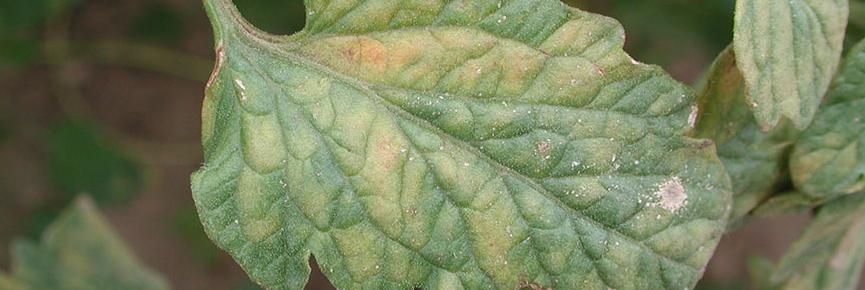Tomato mold leaf: (188, 0, 747, 290), (723, 0, 843, 157)
